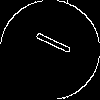I: (25, 25, 73, 57)
